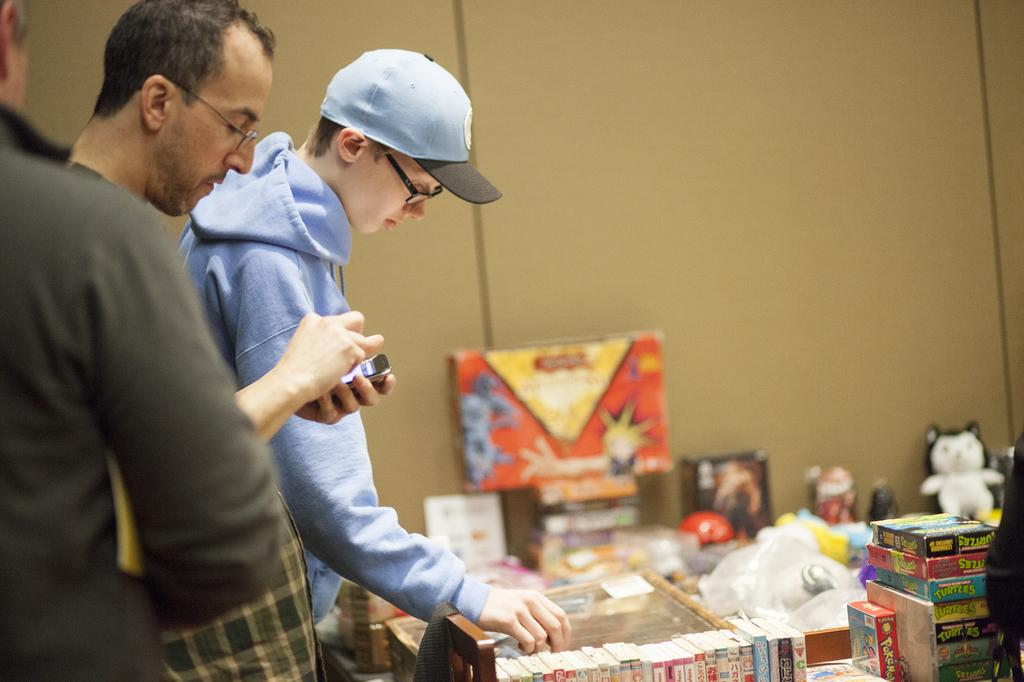Hat: (318, 49, 503, 204)
